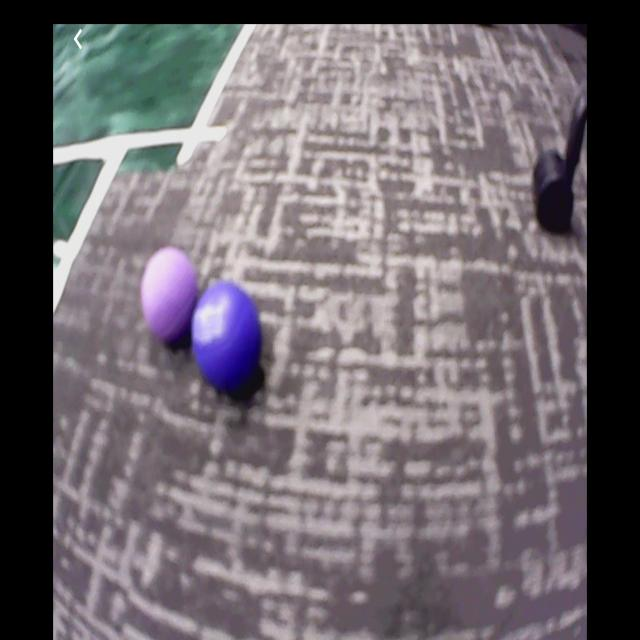ball: (193, 280, 264, 393), (140, 250, 198, 343)
